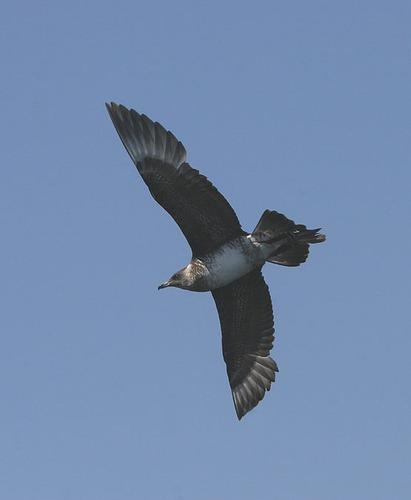bird: (104, 99, 330, 421)
